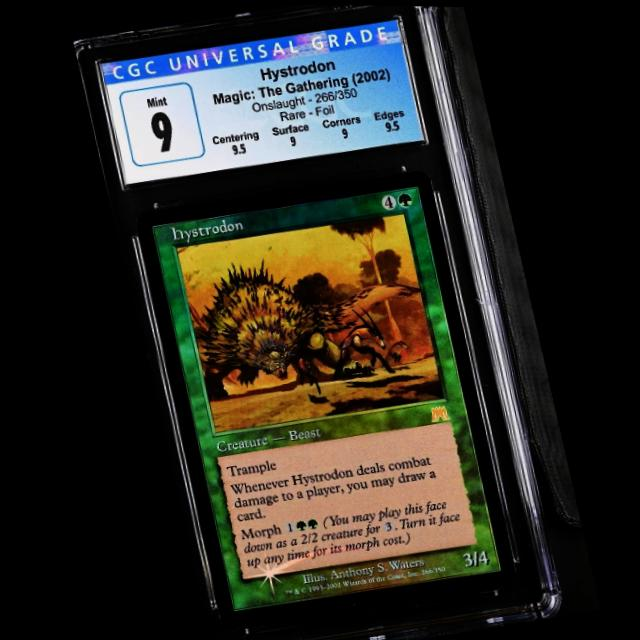card: (130, 167, 513, 631)
cgc_label_old: (99, 17, 422, 185)
cgc_slab: (72, 3, 560, 640)
